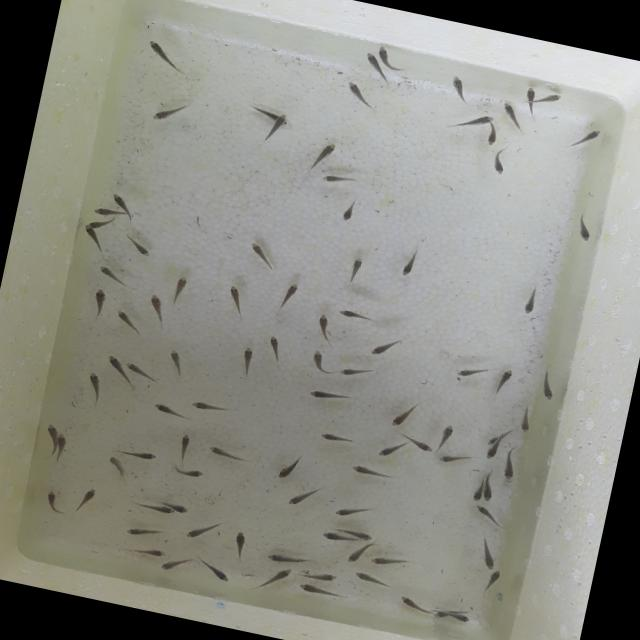fingerling: (136, 32, 188, 72), (146, 98, 194, 130), (112, 229, 160, 260), (367, 332, 412, 362), (76, 368, 112, 404), (342, 80, 383, 110), (245, 238, 278, 274), (470, 533, 502, 570), (185, 518, 226, 546), (449, 107, 498, 130), (123, 360, 163, 385), (471, 502, 509, 528), (195, 558, 234, 583), (93, 264, 133, 288), (304, 388, 352, 408), (392, 592, 432, 616), (111, 306, 142, 336), (442, 71, 471, 103), (274, 280, 302, 313), (205, 444, 247, 466), (152, 401, 192, 424), (187, 396, 233, 416), (570, 125, 604, 152), (84, 284, 108, 322), (336, 522, 377, 544), (121, 520, 162, 542), (350, 570, 394, 590), (300, 564, 340, 586), (282, 486, 318, 510), (312, 138, 338, 171), (224, 282, 249, 316), (315, 428, 357, 448), (118, 444, 162, 463), (136, 498, 177, 518), (396, 432, 435, 453), (330, 501, 369, 522), (170, 432, 197, 462), (264, 549, 306, 568), (430, 422, 459, 449), (40, 489, 66, 519), (266, 112, 290, 144), (312, 310, 333, 346), (162, 348, 190, 375), (391, 401, 416, 431), (229, 526, 251, 560), (342, 253, 366, 284), (374, 44, 401, 71), (78, 224, 104, 252), (494, 365, 522, 391), (102, 352, 128, 380), (276, 456, 304, 482), (536, 369, 558, 402), (144, 293, 169, 322), (168, 463, 206, 482), (318, 170, 358, 188), (264, 333, 288, 363), (342, 544, 372, 568), (40, 418, 62, 450), (340, 361, 373, 382), (366, 552, 404, 570), (130, 544, 168, 562), (296, 580, 336, 597), (358, 49, 382, 77), (265, 562, 294, 585), (351, 464, 388, 482), (168, 274, 190, 304), (453, 362, 486, 382), (308, 348, 330, 378), (377, 439, 408, 460), (102, 453, 128, 478), (515, 404, 535, 436), (238, 345, 260, 374), (499, 100, 523, 126), (76, 485, 100, 511), (400, 248, 420, 279), (574, 215, 596, 243), (51, 429, 69, 463), (498, 452, 518, 482), (338, 199, 361, 225), (480, 476, 500, 504), (469, 474, 488, 502), (89, 204, 124, 219), (159, 554, 185, 574), (338, 308, 372, 323), (106, 190, 128, 213), (482, 566, 504, 589), (520, 286, 538, 314), (320, 531, 353, 546), (536, 89, 562, 108), (164, 497, 193, 514), (90, 214, 117, 232), (484, 428, 509, 447), (520, 85, 538, 111), (250, 106, 280, 121), (438, 453, 470, 467), (489, 150, 506, 175), (484, 124, 502, 146), (448, 610, 473, 624), (430, 608, 452, 622), (482, 446, 500, 462)
